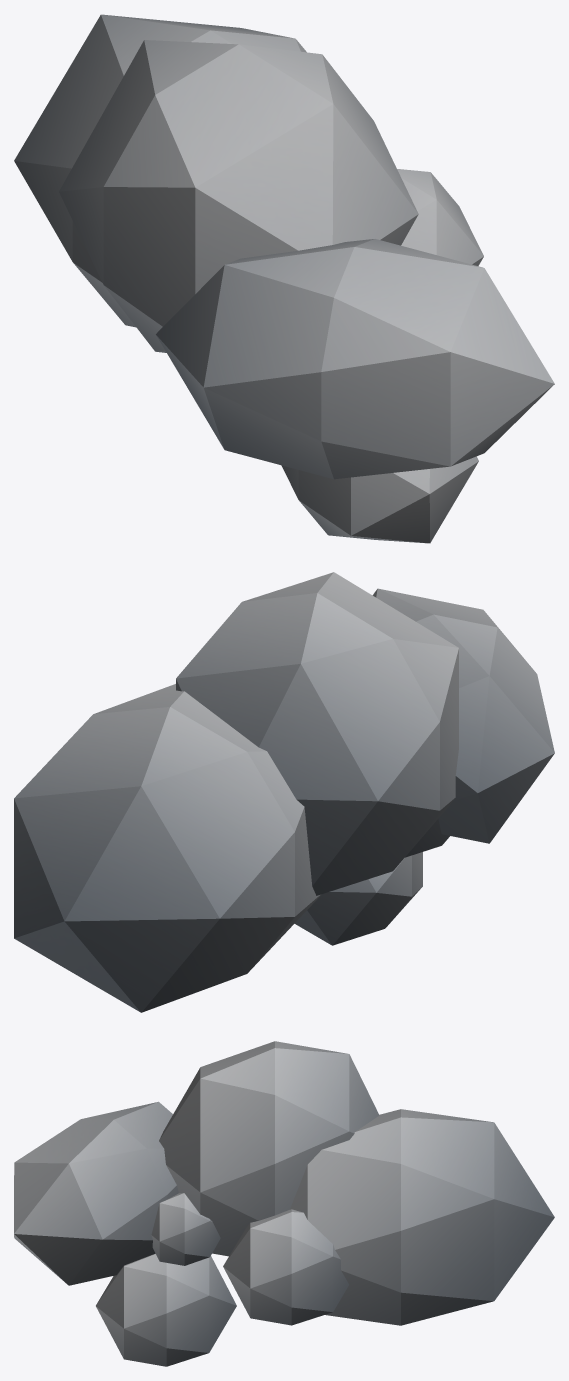
File: nubes3.fbx
3 renders of one model, top to bottom at view 1: azimuth 30°, elevation 25°; view 2: azimuth 150°, elevation 25°; view 3: azimuth 270°, elevation 25°, orthographic. The views are drawn at different scales.
Visible parts, largest first — view 1: nube3; view 2: nube3; view 3: nube3.
Part boxes in pixels (x1,y1,x2,y2): nube3: [14, 14, 554, 543]; nube3: [14, 572, 554, 1012]; nube3: [14, 1041, 554, 1366].
Bounding box in the file's own units: 664 × 746 × 1234.
